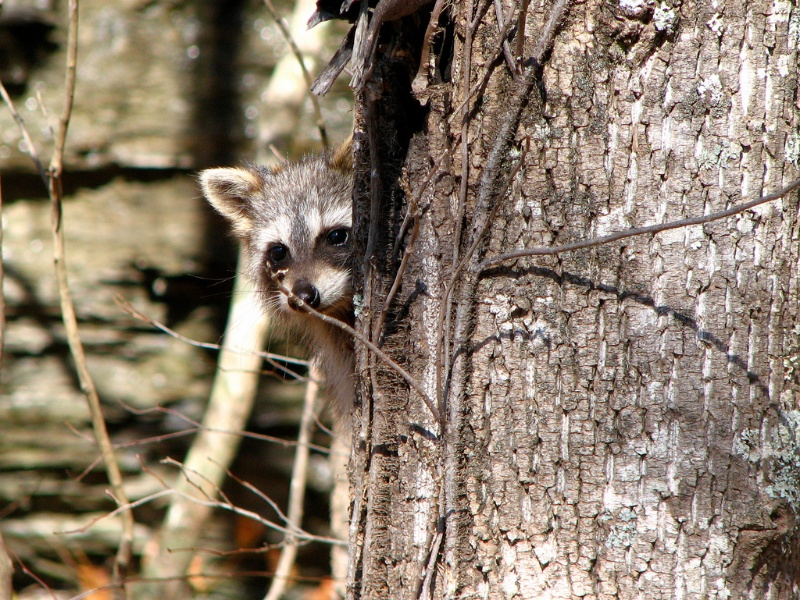raccoon: (199, 130, 365, 426)
